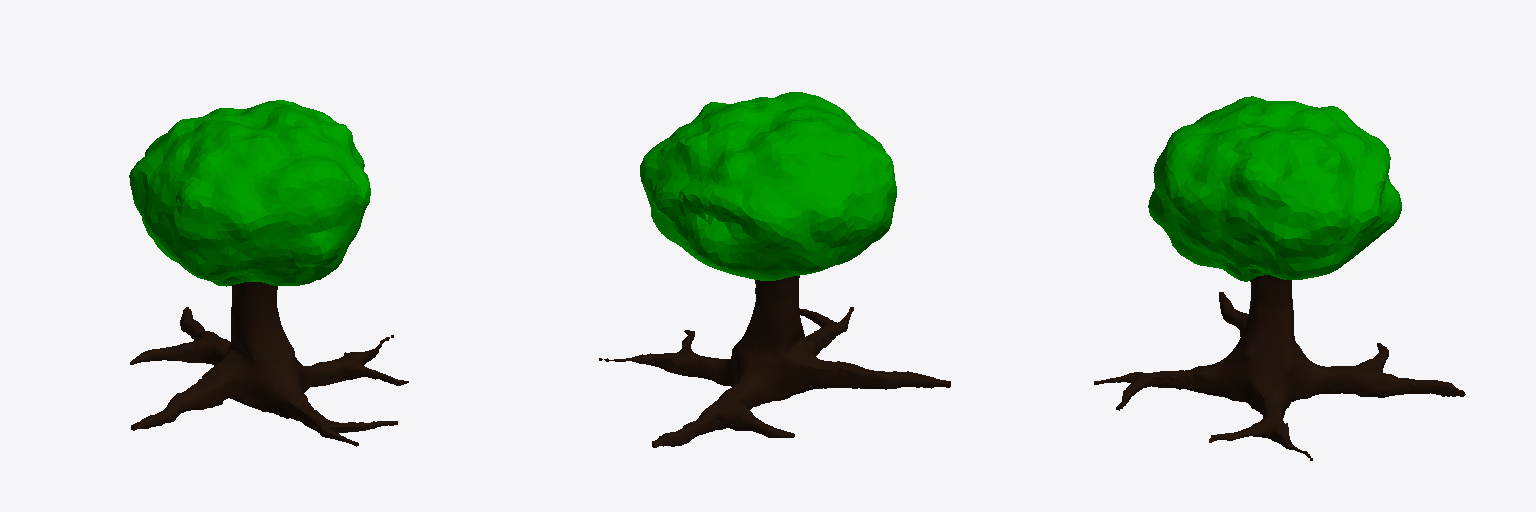
The model's file is Arbre.obj.
The picture shows the model from 3 angles: view 1: azimuth 30°, elevation 25°; view 2: azimuth 150°, elevation 25°; view 3: azimuth 270°, elevation 25°; orthographic projection.
Visible parts, largest first — view 1: Feuillage_Cube, Tronc_Cube.001; view 2: Feuillage_Cube, Tronc_Cube.001; view 3: Feuillage_Cube, Tronc_Cube.001.
Part boxes in pixels (left/top/right/bottom): Feuillage_Cube: left=129, top=100, right=370, bottom=286; Tronc_Cube.001: left=130, top=282, right=408, bottom=446; Feuillage_Cube: left=640, top=92, right=896, bottom=280; Tronc_Cube.001: left=599, top=276, right=950, bottom=447; Feuillage_Cube: left=1148, top=96, right=1401, bottom=281; Tronc_Cube.001: left=1094, top=275, right=1465, bottom=460.
Bounding box in the file's own units: 14.34 × 12.38 × 15.08.